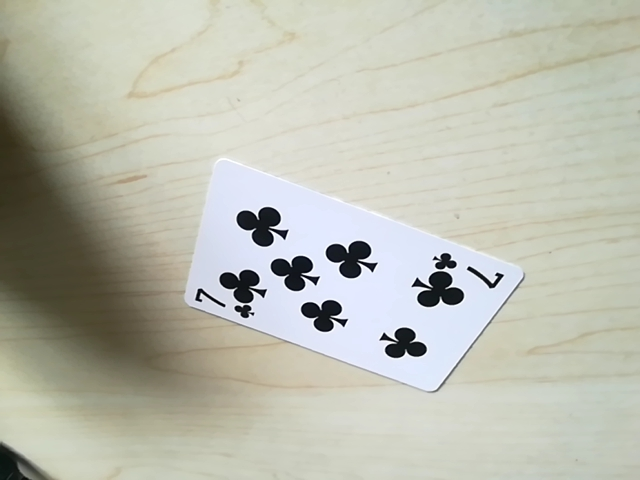mh 7: (192, 282, 250, 318), (441, 251, 496, 280)
